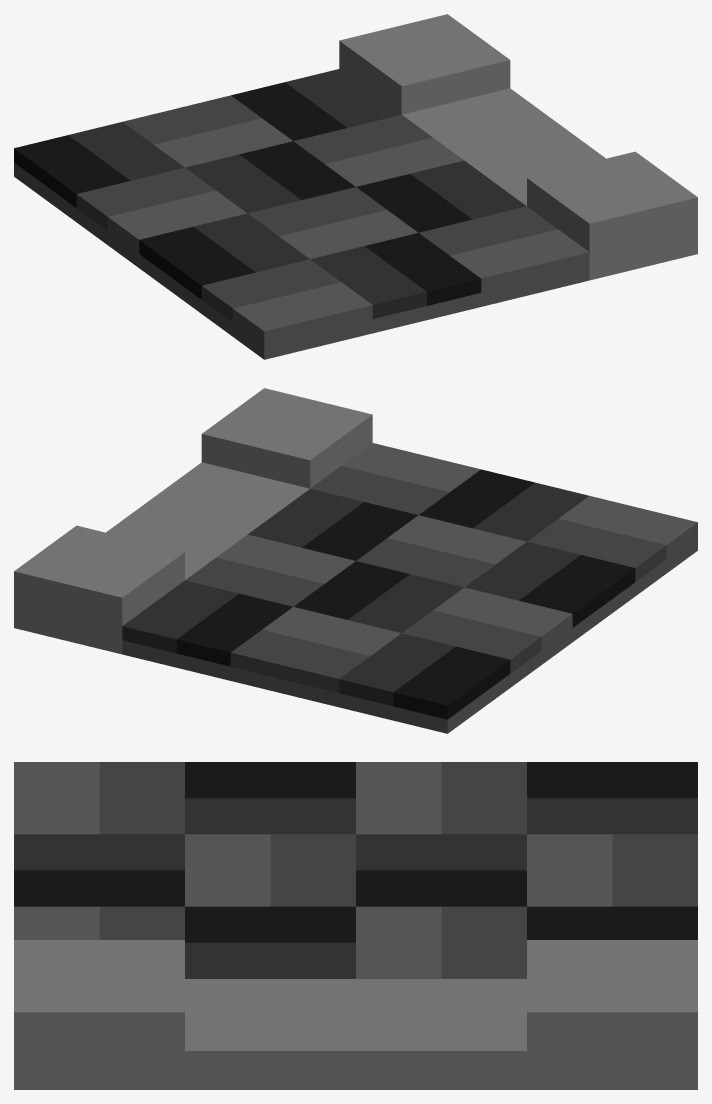
The model's file is brick_ground4.obj.
3 renders of one model, top to bottom at view 1: azimuth 30°, elevation 25°; view 2: azimuth 150°, elevation 25°; view 3: azimuth 270°, elevation 25°, orthographic. The views are drawn at different scales.
Size of the model in its own units: 3.2 by 0.4 by 3.2.
Materials: 1 (1 with a texture image).
